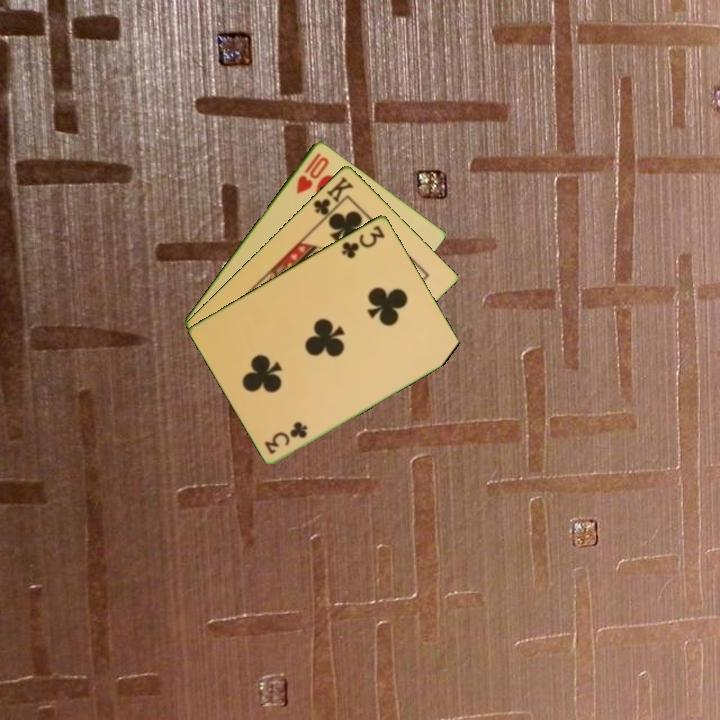10h: (292, 149, 332, 196)
3c: (338, 221, 388, 261), (261, 418, 311, 457)
Kc: (310, 172, 357, 224)
